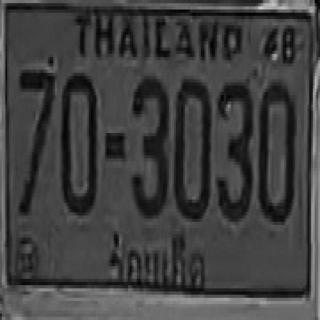N00: (172, 76, 210, 218), (258, 79, 295, 222), (61, 70, 96, 212)
N03: (130, 74, 167, 217), (216, 79, 252, 219)
N07: (18, 67, 53, 212)
P54: (102, 223, 211, 291)
